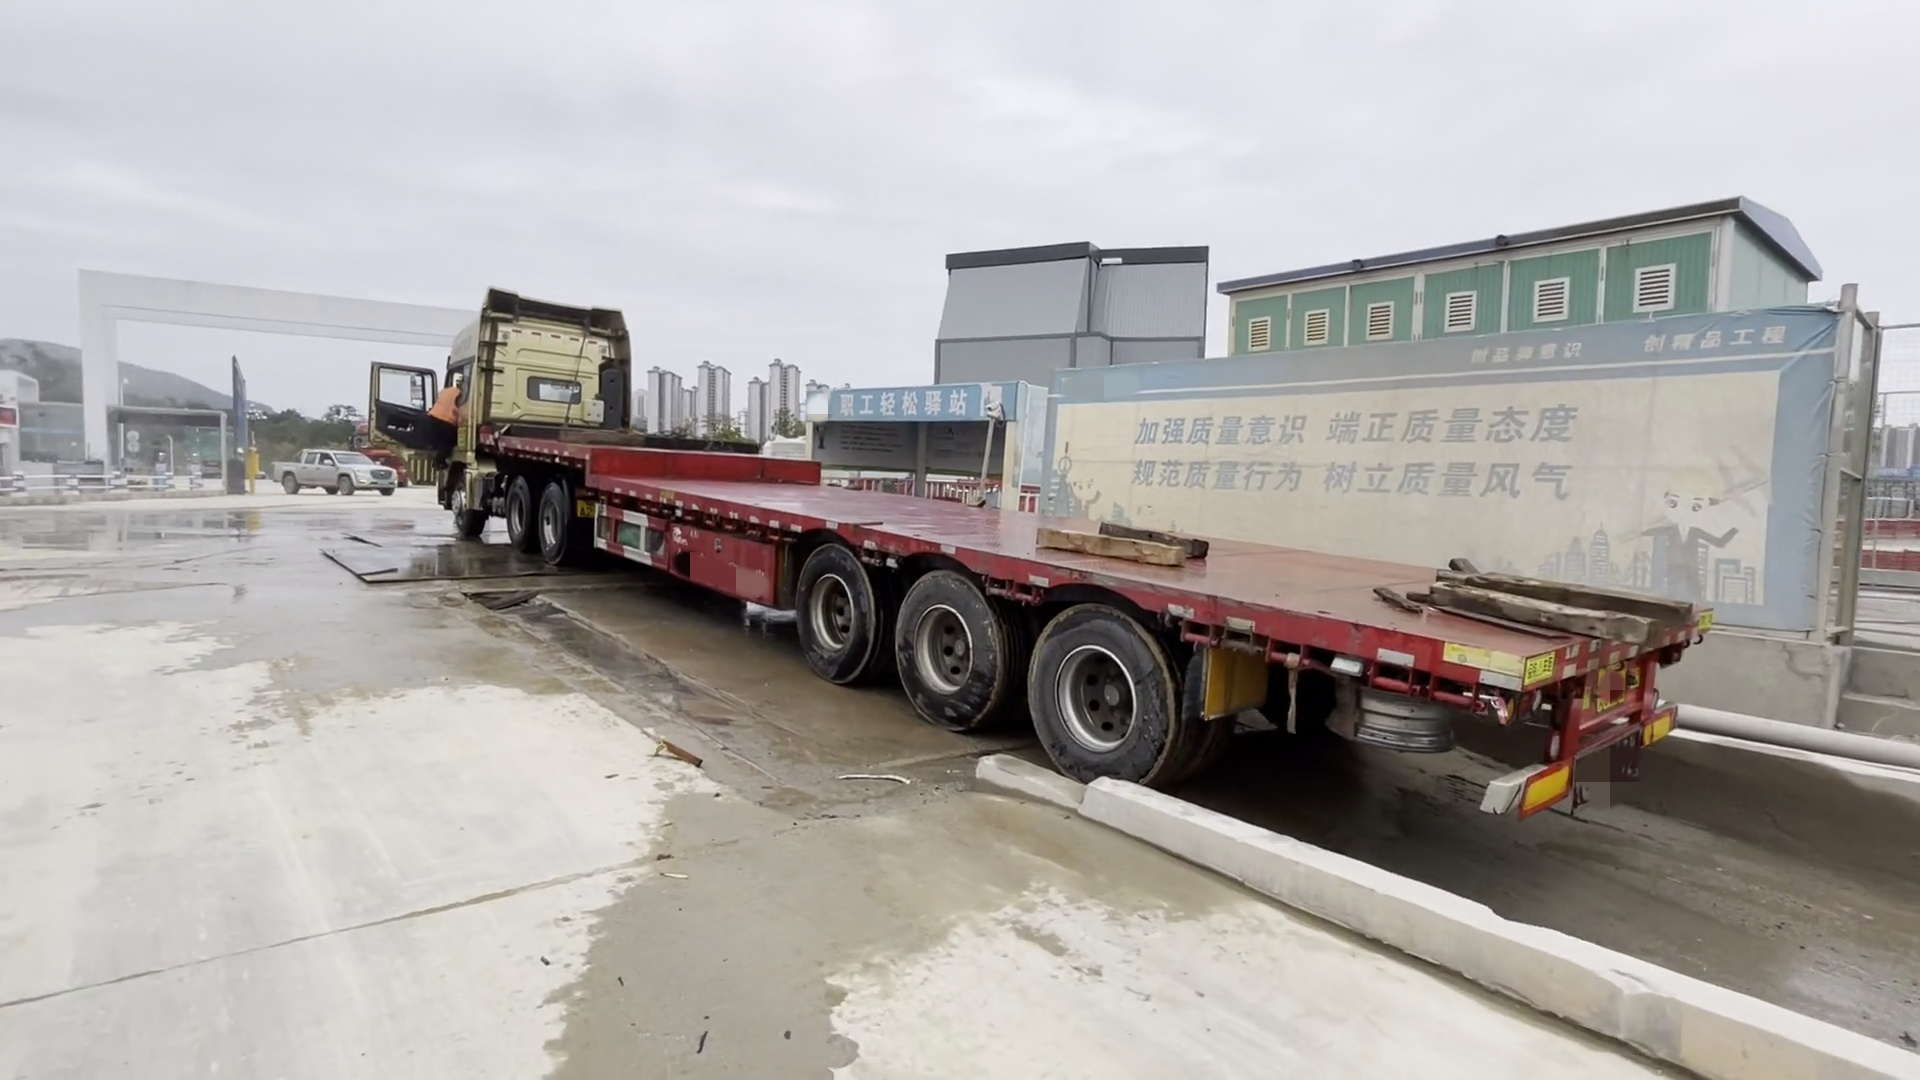person: (423, 374, 471, 478)
slogan: (1119, 406, 1585, 534), (1463, 316, 1809, 393)
vest: (429, 385, 459, 427)
